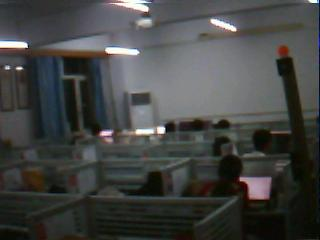oball: (277, 44, 289, 56)
